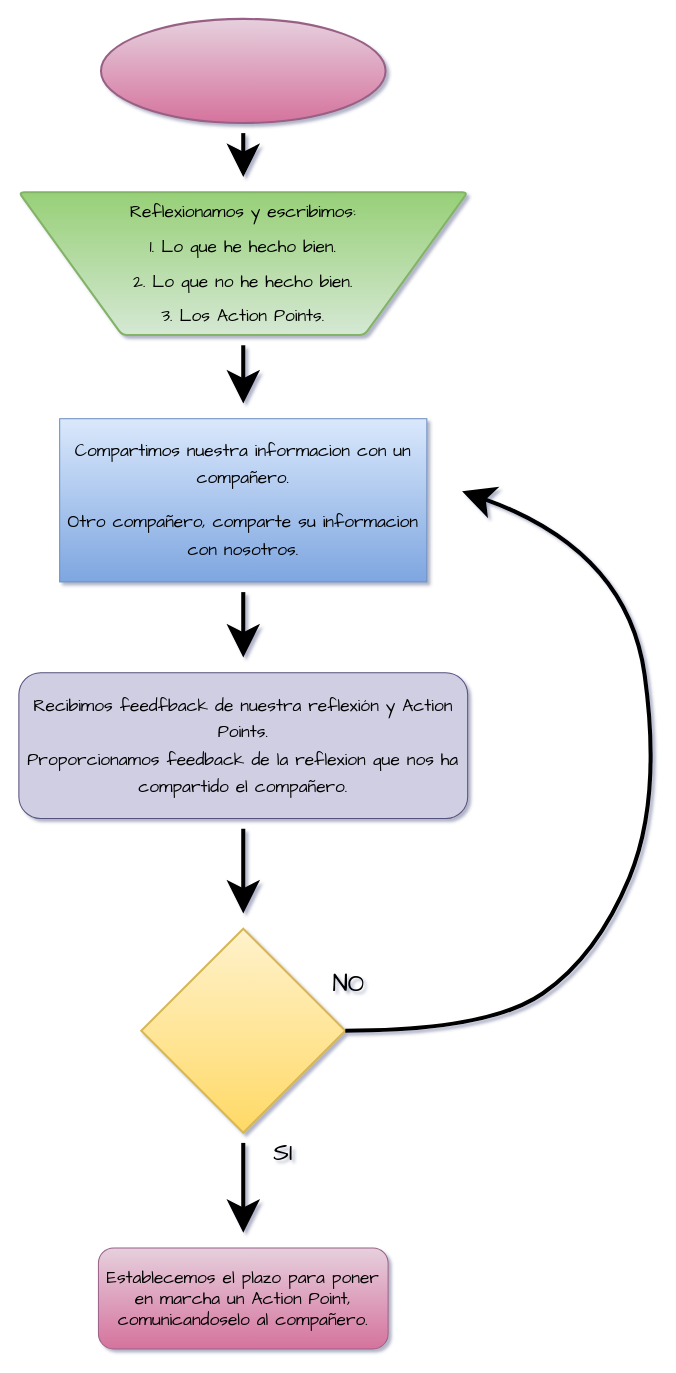
This 676x1373 diagram has some shape labels left out. The shapes that lost their labels are listed below. From the top down, each one's box as (x1, y1, x2, y2) in pixels, then its label:
(99, 17, 386, 123): Reflexionamos Sobre el utlimo Sprint.
(140, 927, 346, 1133): ¿Es aprobado el Action point?
